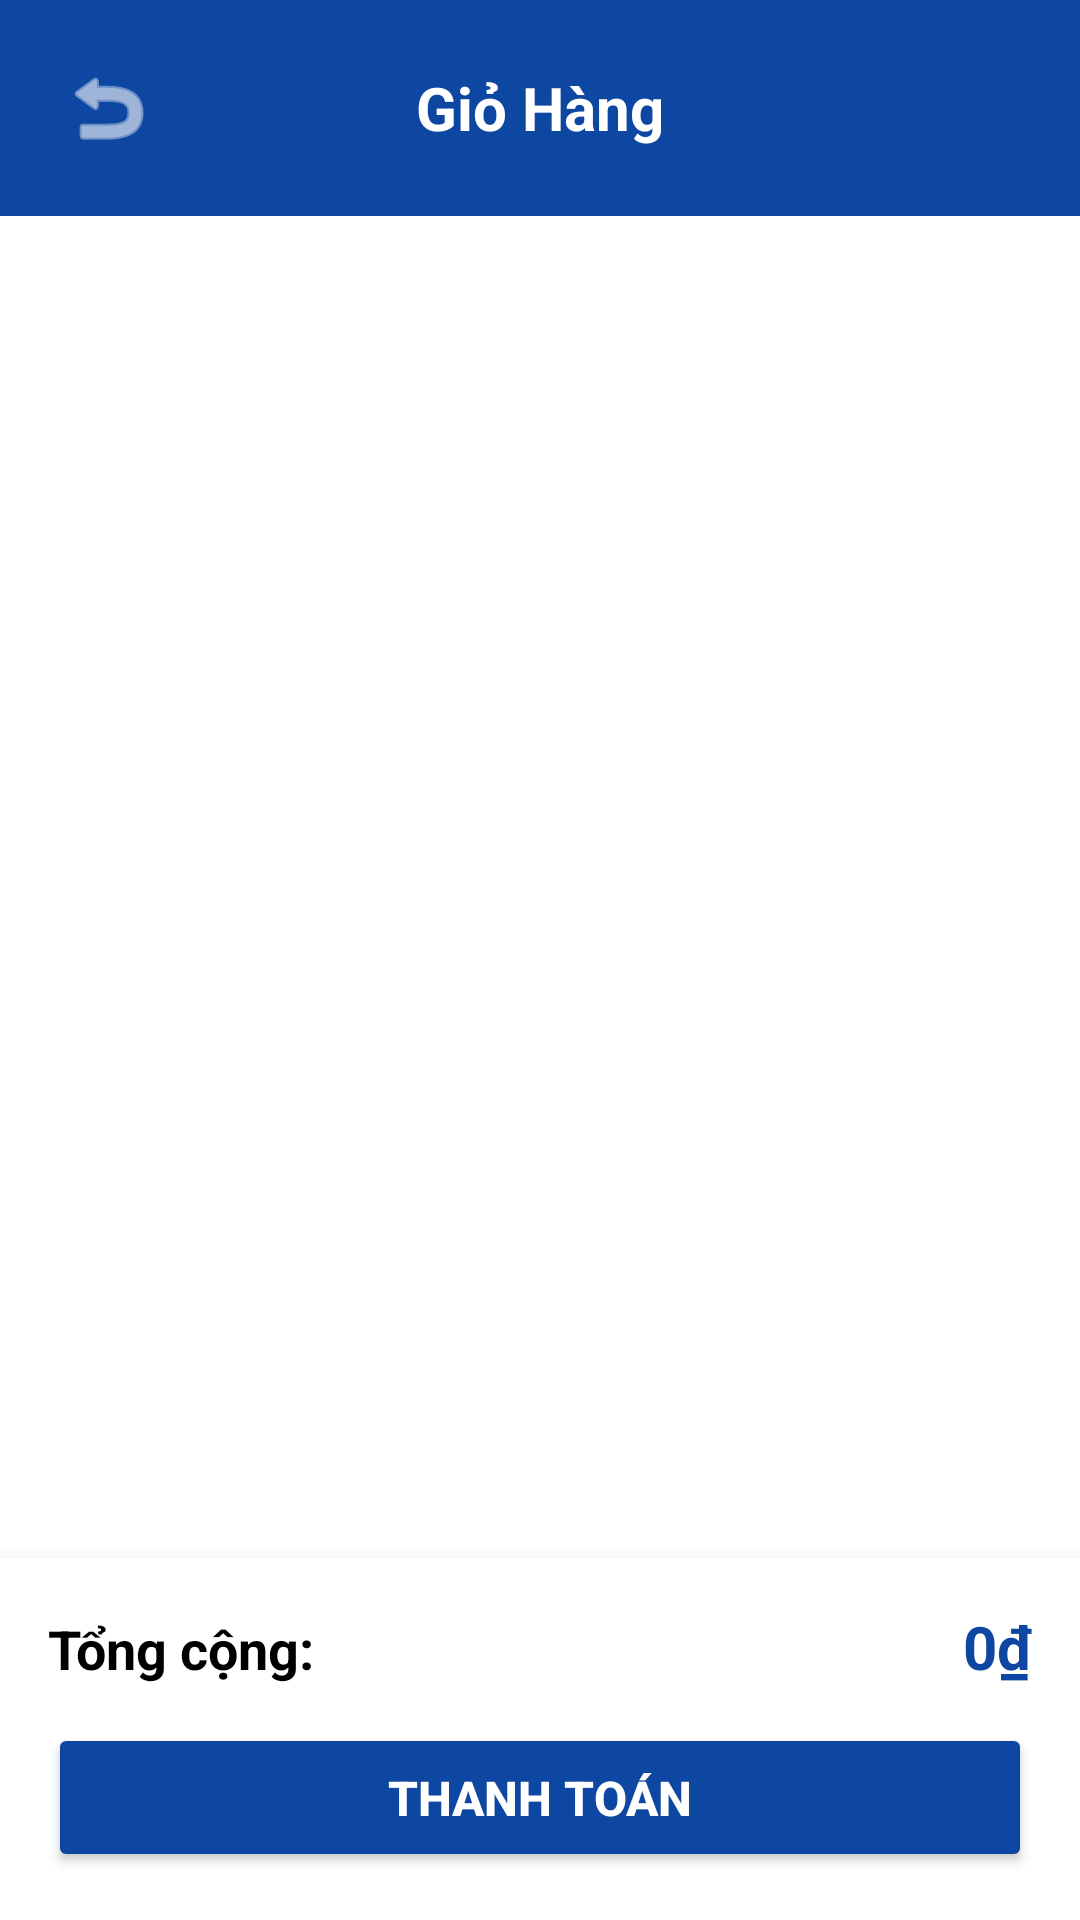

Screen size 1080×1920. Icon name, then its center in pixels as (x=x, y=y):
revert: (x=109, y=108)
